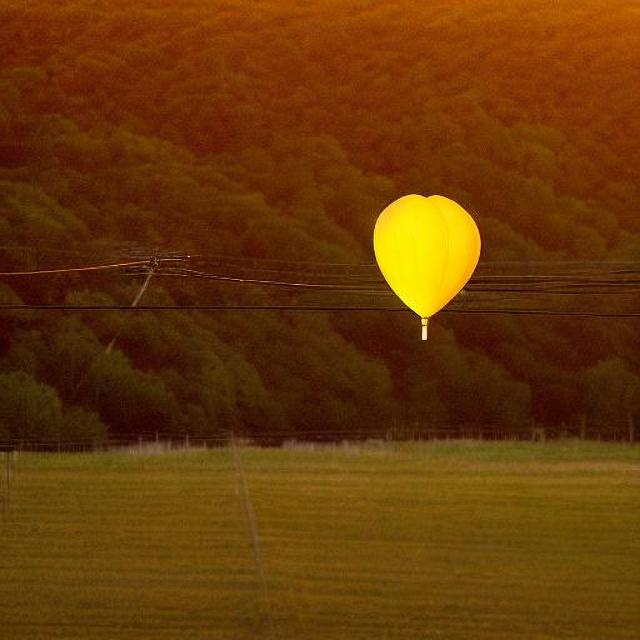balloon: (366, 189, 480, 327)
